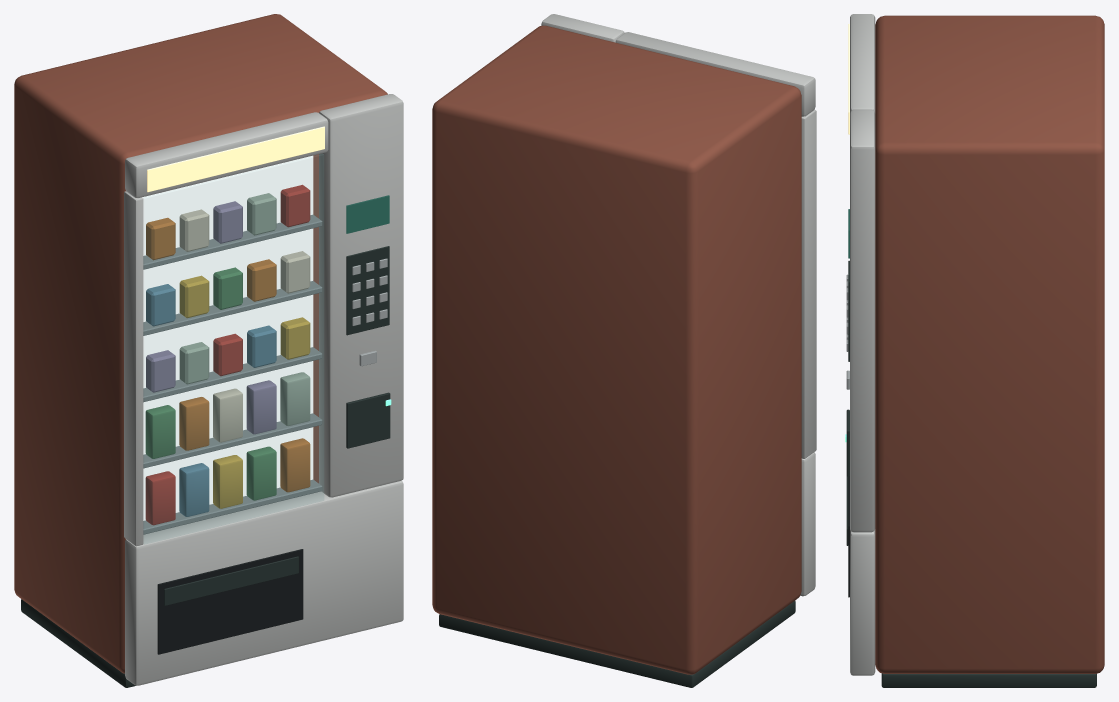
Rendered from vending-machine.glb.
3 views of the same model, side by side, from view 1: azimuth 30°, elevation 25°; view 2: azimuth 150°, elevation 25°; view 3: azimuth 270°, elevation 25° (orthographic). The views are drawn at different scales.
Parts seen in each view (by area): view 1: vending-machine; view 2: vending-machine; view 3: vending-machine.
Part boxes in pixels (<box>): vending-machine: <box>14,14,403,687</box>; vending-machine: <box>432,14,816,687</box>; vending-machine: <box>845,14,1104,687</box>.
Size of the model in its own units: 1 by 1.9 by 0.82.
